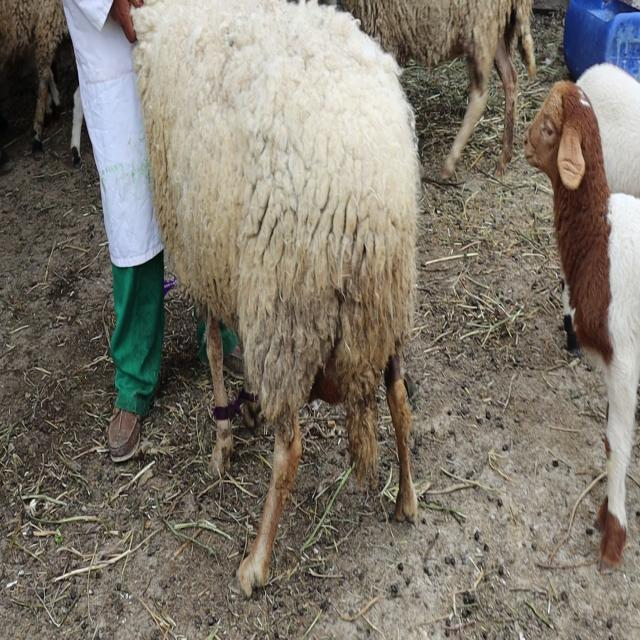Score_4: (131, 0, 421, 596)
